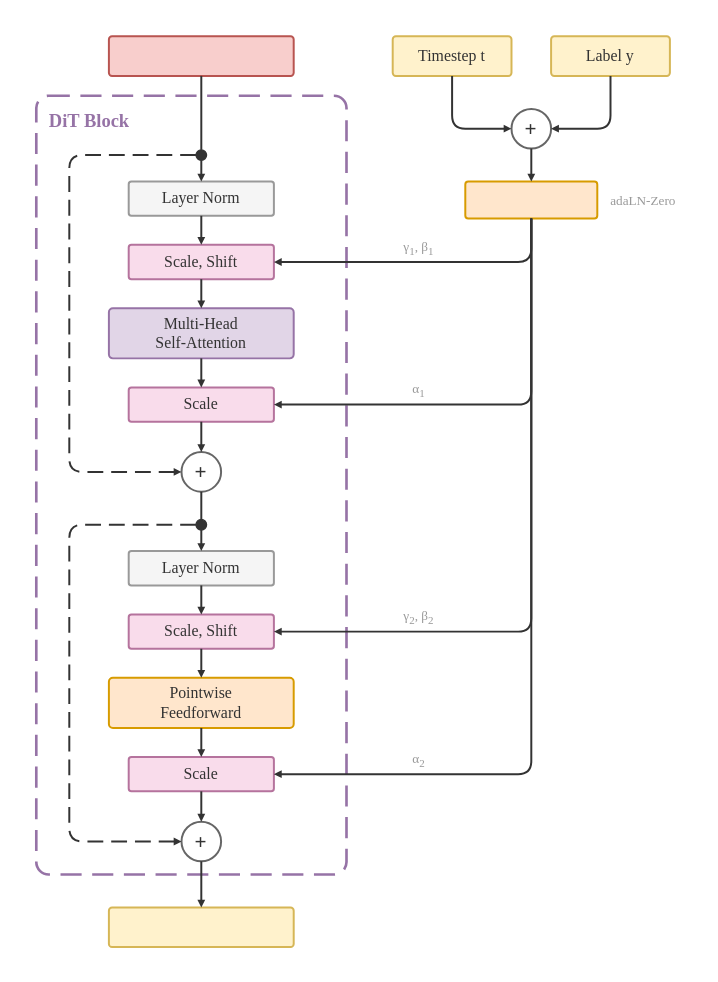
Image size: 718x982. Some labels were removed from this diagram. Here are the shapes that lost their labels. From the top down, the centre of each, then its label:
[200,55]: Input tokens
[531,199]: MLP
[200,926]: Output tokens
